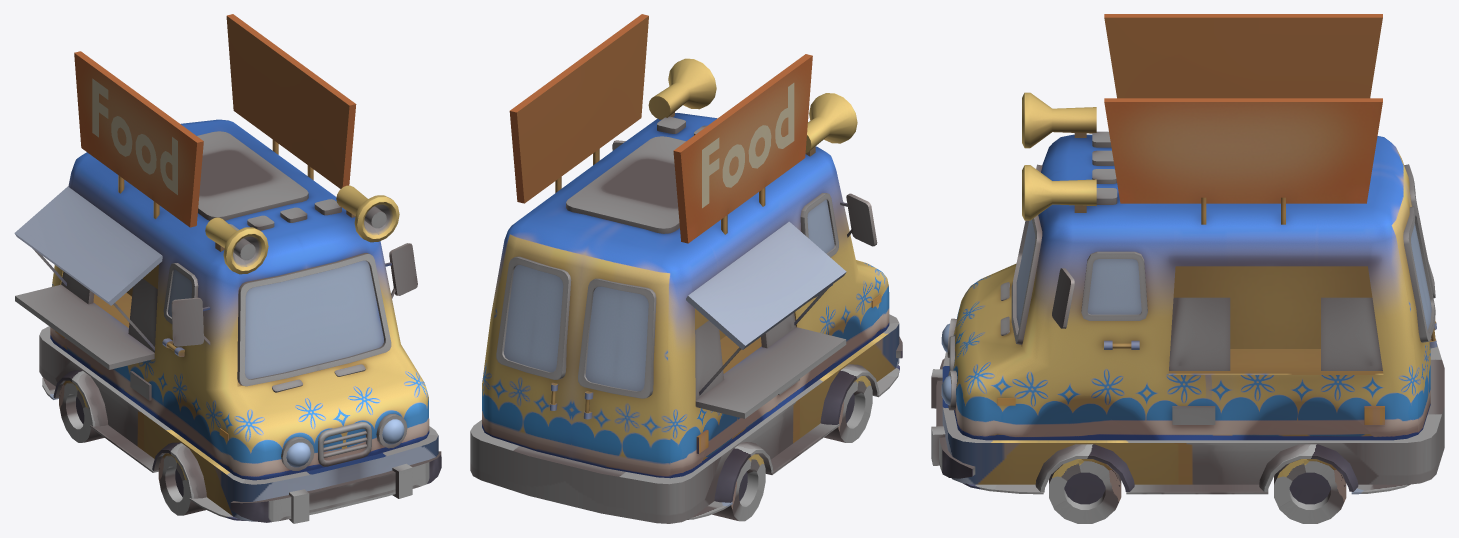
The model's file is food_truck_3.fbx.
The picture shows the model from 3 angles, left to right: view 1: azimuth 30°, elevation 25°; view 2: azimuth 150°, elevation 25°; view 3: azimuth 270°, elevation 25°; orthographic projection. The views are drawn at different scales.
Visible parts, largest first — view 1: Cube.280, Cube.261, Cube.283, Cube.282, Cube.286, Cube.284, Cube.273, Cube.270, Cylinder.142, Cube.281, Cube.227, Plane.027 (+12 smaller); view 2: Cube.280, Cube.286, Cube.278, Cube.283, Cube.282, Cube.284, Cube.273, Cube.270, Cylinder.142, Text.003, Cube.272, Cylinder.146 (+6 smaller); view 3: Cube.280, Cube.283, Cube.282, Cube.286, Cube.272, Cylinder.142, Cube.276, Cylinder.145, Cylinder.146, Cube.278, Circle.071, Circle.072 (+10 smaller).
Part boxes in pixels (box(x1,y1,x2,y2)): Cube.280: box(50, 119, 429, 480); Cube.261: box(245, 260, 383, 379); Cube.283: box(226, 14, 356, 188); Cube.282: box(74, 51, 313, 227); Cube.286: box(39, 326, 438, 521); Cube.284: box(14, 186, 162, 305); Cube.273: box(197, 131, 308, 220); Cube.270: box(15, 284, 154, 369); Cylinder.142: box(205, 185, 399, 274); Cube.281: box(230, 451, 441, 522); Cube.227: box(237, 253, 391, 386); Plane.027: box(171, 243, 417, 346); Cube.280: box(482, 113, 889, 478); Cube.286: box(470, 314, 899, 523); Cube.278: box(496, 256, 656, 398); Cube.283: box(509, 14, 648, 203); Cube.282: box(555, 54, 812, 243); Cube.284: box(686, 221, 846, 349); Cube.273: box(566, 136, 685, 233); Cube.270: box(695, 327, 846, 418); Cylinder.142: box(648, 58, 857, 156); Text.003: box(702, 83, 794, 208); Cube.272: box(695, 313, 796, 400); Cylinder.146: box(712, 453, 765, 521); Cube.280: box(953, 134, 1430, 440); Cube.283: box(1104, 98, 1382, 203); Cube.282: box(1104, 14, 1382, 224); Cube.286: box(942, 338, 1444, 484); Cube.272: box(1169, 297, 1382, 370); Cylinder.142: box(1022, 92, 1096, 220); Cube.276: box(1081, 251, 1147, 320); Cylinder.145: box(1049, 459, 1121, 523); Cylinder.146: box(1274, 459, 1346, 523); Cube.278: box(1403, 164, 1435, 342); Circle.071: box(1035, 444, 1134, 492); Circle.072: box(1259, 444, 1358, 491).
Size of the model in its own units: 2.43 by 3.15 by 3.63.
